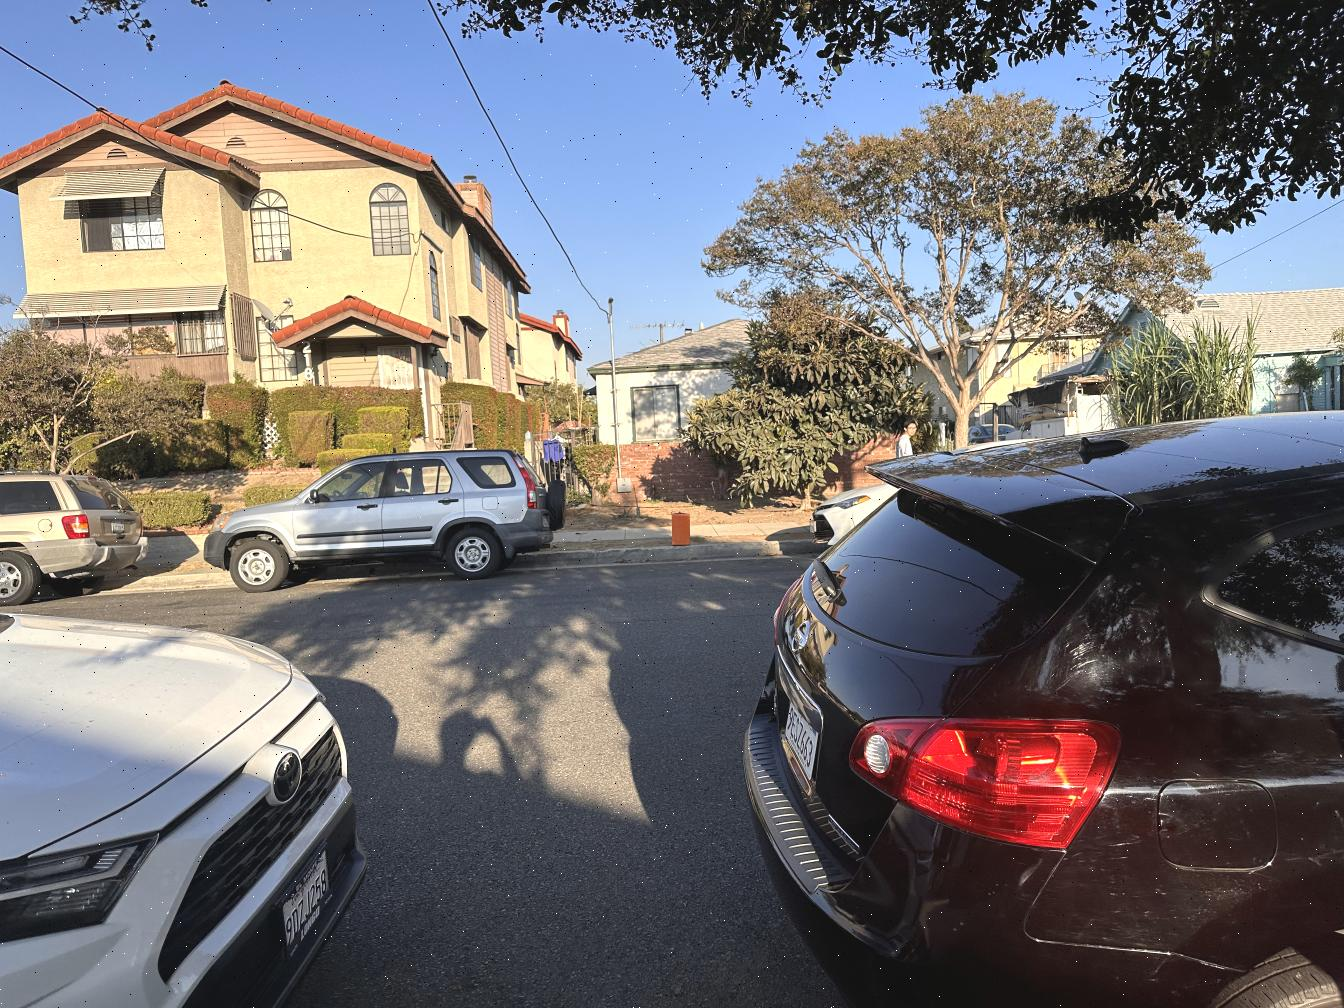curbs-laRr: (552, 546, 690, 566), (696, 538, 810, 561)
orange box: (671, 516, 691, 547)
